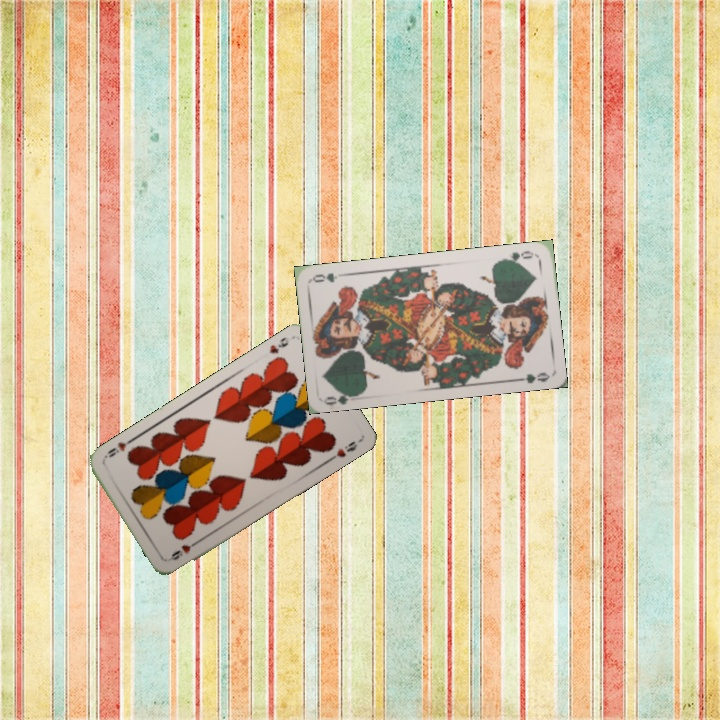GO: (322, 387, 363, 407), (497, 246, 538, 266)
H9: (165, 536, 202, 563), (265, 332, 294, 356)
